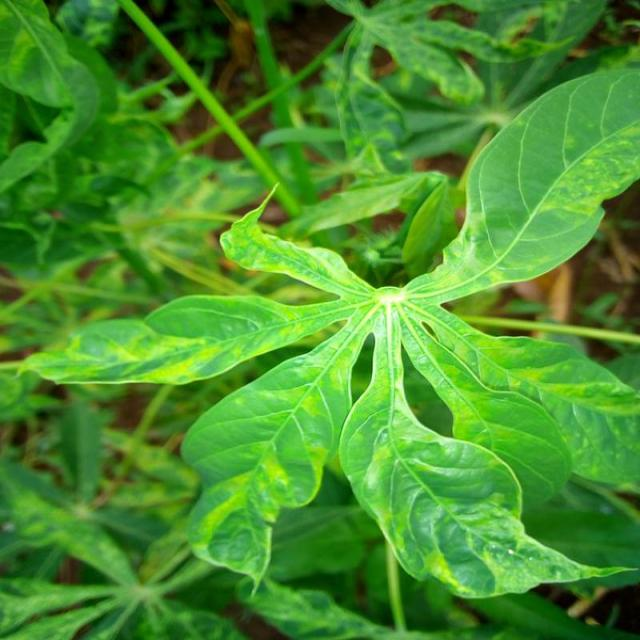Mosaico: (157, 234, 622, 527)
